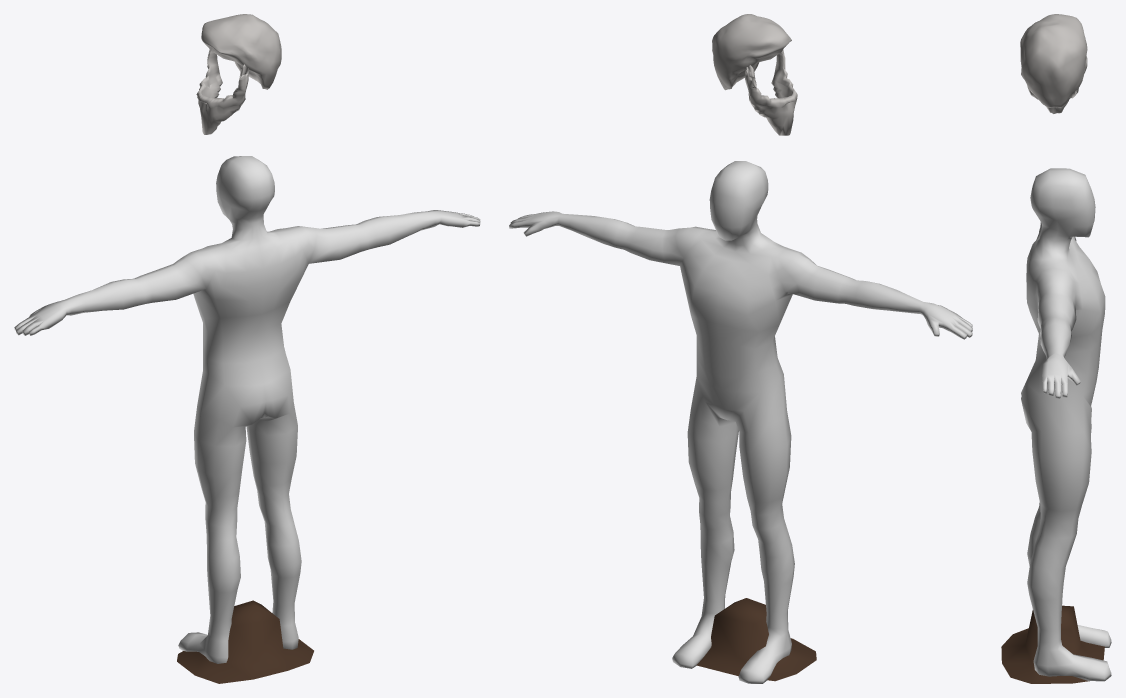
File: hut.fbx
The picture shows the model from 3 angles, left to right: view 1: azimuth 30°, elevation 25°; view 2: azimuth 150°, elevation 25°; view 3: azimuth 270°, elevation 25°; orthographic projection.
Parts seen in each view (by area): view 1: Ersatzk_rper, Haare, Kopf; view 2: Ersatzk_rper, Haare, Kopf; view 3: Ersatzk_rper, Haare, Kopf.
Part boxes in pixels (box(x1,y1,x2,y2)): Ersatzk_rper: box(14, 156, 480, 663); Haare: box(196, 14, 281, 134); Kopf: box(177, 600, 313, 683); Ersatzk_rper: box(509, 161, 972, 683); Haare: box(712, 14, 797, 135); Kopf: box(696, 598, 816, 681); Ersatzk_rper: box(1021, 168, 1111, 681); Haare: box(1020, 14, 1087, 113); Kopf: box(1001, 605, 1104, 683).
Size of the model in its own units: 1.37 by 1.81 by 0.2855.
